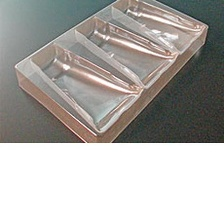plastic_box: (8, 0, 214, 141)
